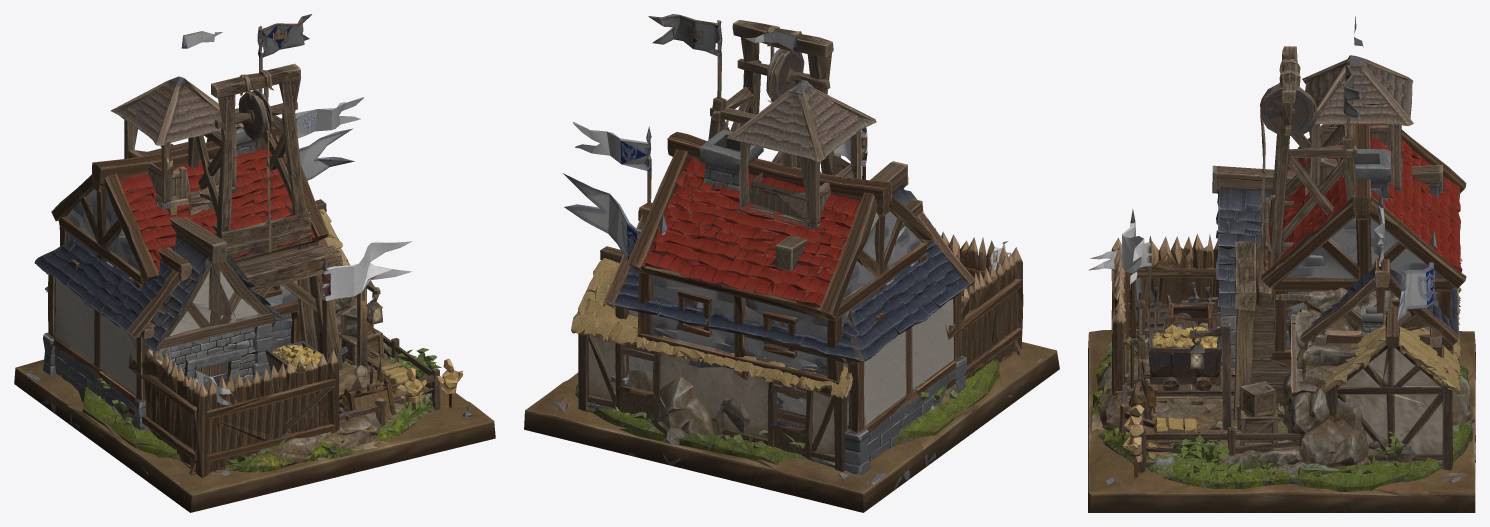
The model's file is specials.glb.
3 renders of one model, left to right at view 1: azimuth 30°, elevation 25°; view 2: azimuth 150°, elevation 25°; view 3: azimuth 270°, elevation 25°, orthographic. The views are drawn at different scales.
Visible parts, largest first — view 1: Site_Barracks, Site_Mine, Site_Weaponmaster, Site_Smithy, Site_Ranger, Site_Stables; view 2: Site_Barracks, Site_Weaponmaster, Site_Stables, Site_Ranger, Site_Mine, Site_Smithy; view 3: Site_Barracks, Site_Mine, Site_Ranger, Site_Stables, Site_Smithy, Site_Weaponmaster.
Part boxes in pixels (<box>): Site_Barracks: <box>14,118,495,512</box>; Site_Mine: <box>112,14,407,479</box>; Site_Weaponmaster: <box>26,97,392,483</box>; Site_Smithy: <box>42,127,354,497</box>; Site_Ranger: <box>78,31,441,475</box>; Site_Stables: <box>45,199,440,411</box>; Site_Barracks: <box>524,100,1059,512</box>; Site_Weaponmaster: <box>572,122,1041,484</box>; Site_Stables: <box>571,241,1009,490</box>; Site_Ranger: <box>575,30,999,464</box>; Site_Mine: <box>628,14,957,465</box>; Site_Smithy: <box>563,129,1023,490</box>; Site_Barracks: <box>1088,124,1475,512</box>; Site_Mine: <box>1088,46,1475,474</box>; Site_Ranger: <box>1091,16,1475,492</box>; Site_Stables: <box>1088,235,1462,472</box>; Site_Smithy: <box>1212,149,1444,462</box>; Site_Weaponmaster: <box>1120,191,1460,433</box>.
Bounding box in the file's own units: 1.84 × 2.08 × 1.84.
13 materials, 13 textured.
